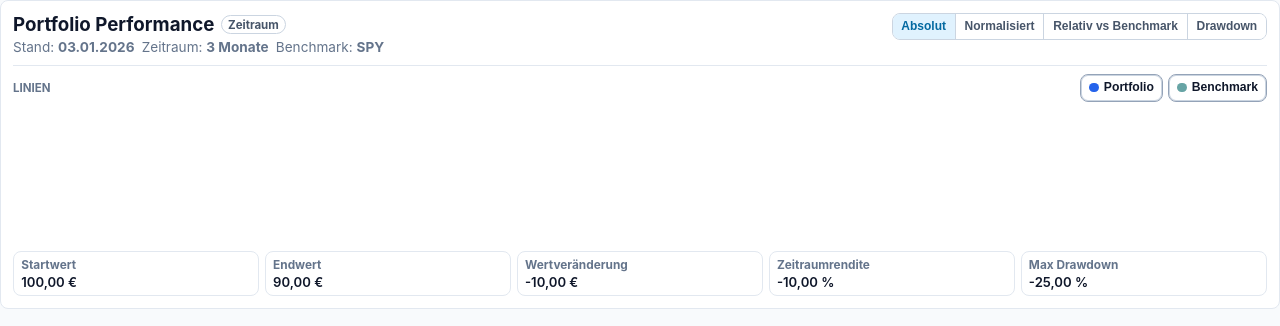
Test: PortfolioPerformancePanel › shows relative out- and underperformance with an aligned benchmark
The image size is (1280, 326).
Click the button "Relativ vs Benchmark": (1116, 26) left=1044, top=14, right=1188, bottom=39
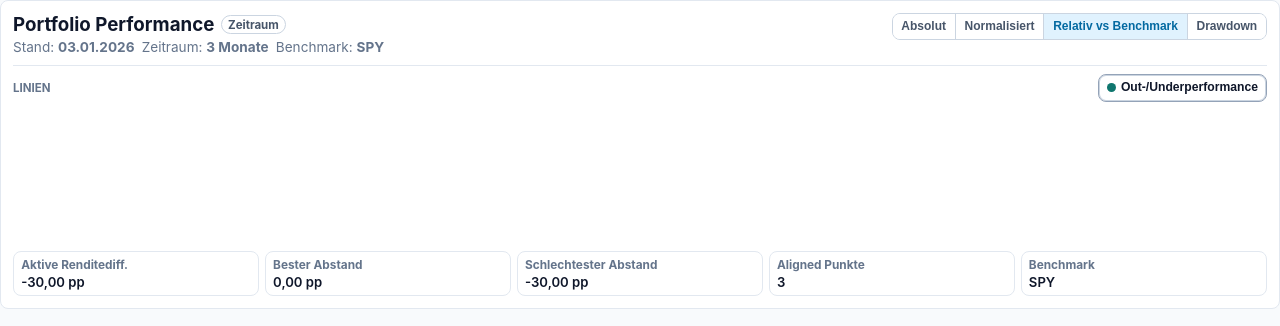
Expected: the text "Aktive Renditediff." is shown, left=21, top=258, right=128, bottom=272
Expected: the text "-30,00 pp" is shown, left=21, top=274, right=85, bottom=290
Expected: the text "Aligned Punkte" is shown, left=777, top=258, right=865, bottom=272
